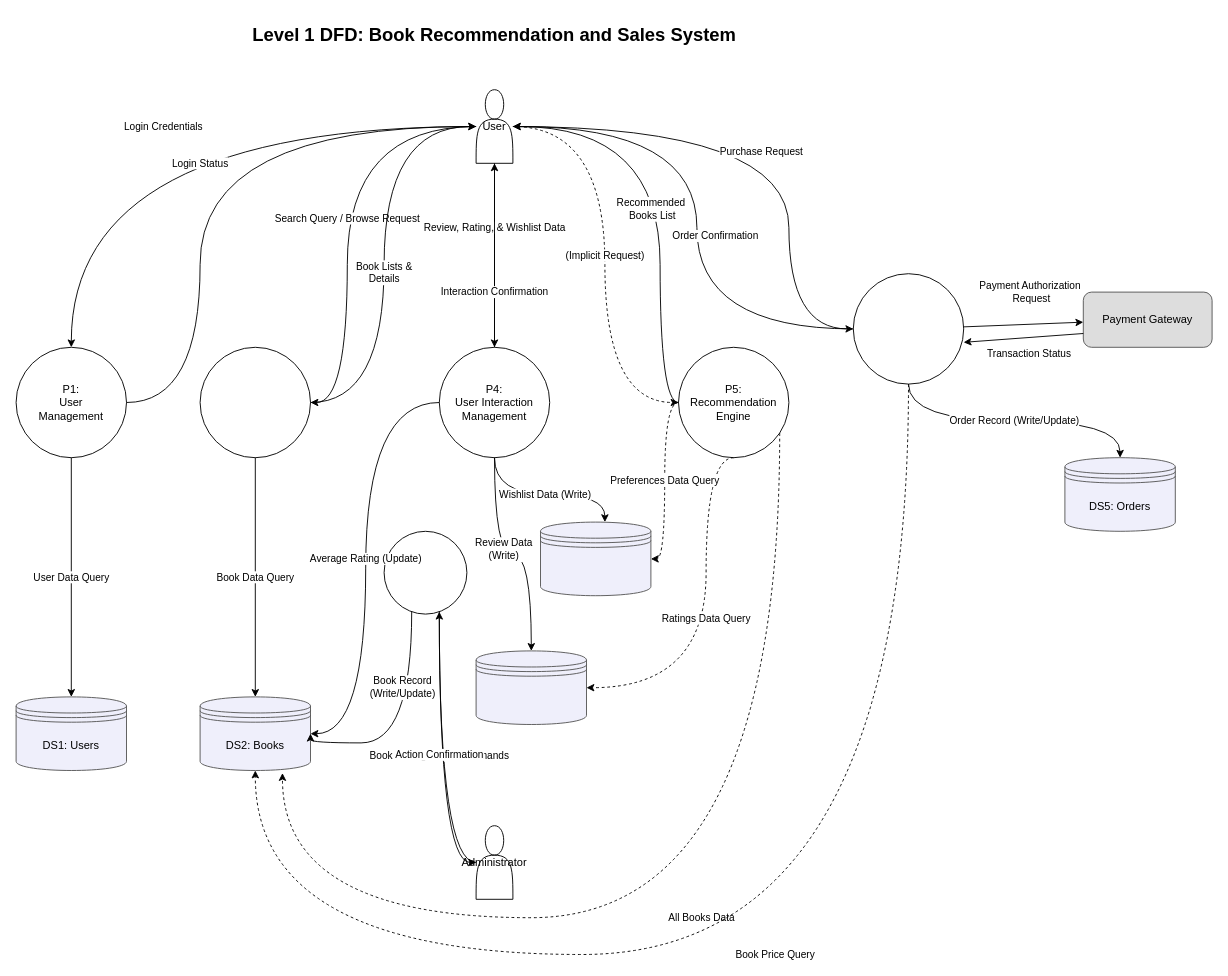
The diagram is 1228 pixels wide and 976 high, and some of its shapes have lost their labels. Here are the shapes that lost their labels. From the top down, the centre of each, then its label:
At [908,328]: "P6: Order & Payment Processing".
At [254,402]: "P3: Book Discovery".
At [425,572]: "P2: Book Management".
At [595,558]: "DS4: Wishlists".
At [530,687]: "DS3: Reviews".
